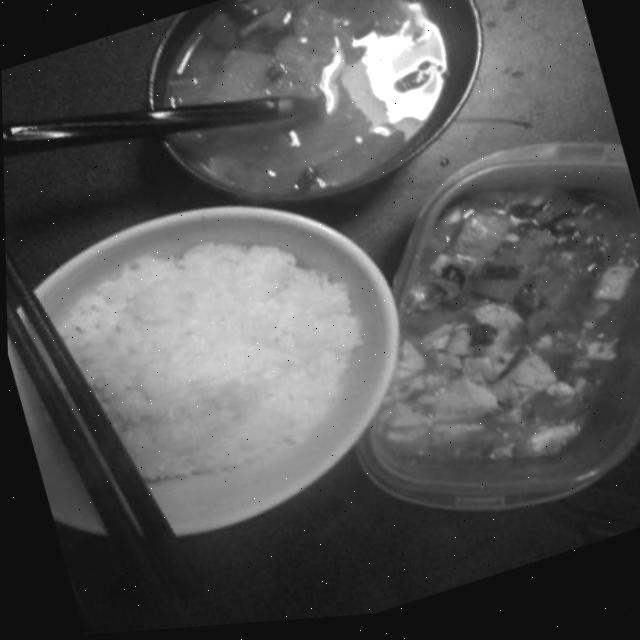米饭主食: (3, 139, 449, 596)
